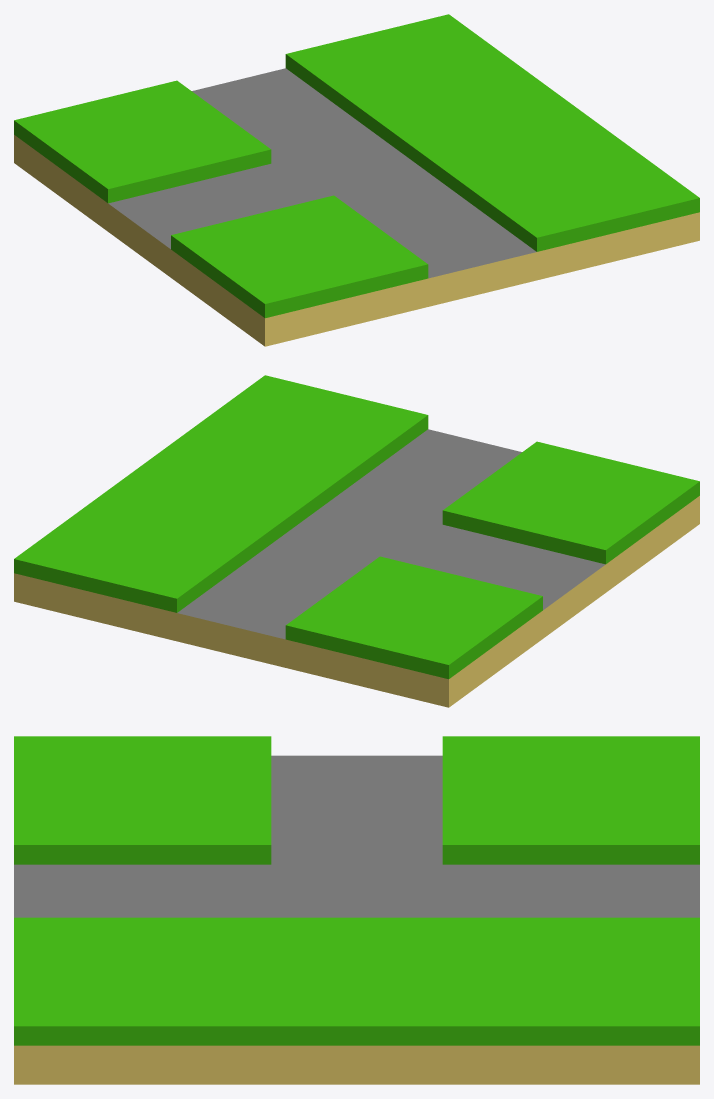
File: split.gltf
The picture shows the model from 3 angles, top to bottom: view 1: azimuth 30°, elevation 25°; view 2: azimuth 150°, elevation 25°; view 3: azimuth 270°, elevation 25°; orthographic projection. The views are drawn at different scales.
Parts seen in each view (by area): view 1: cube (×5); view 2: cube (×5); view 3: cube (×5).
Part boxes in pixels (x1,y1,x2,y2): cube (×5): (14, 14, 699, 346); cube (×5): (14, 375, 699, 707); cube (×5): (14, 736, 699, 1084).
Bounding box in the file's own units: 1 × 0.0938 × 1.
3 materials, 3 textured.
